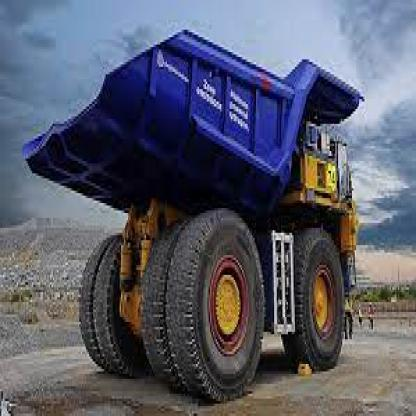dump_truck: (26, 17, 366, 379)
